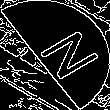N_SW: (18, 24, 92, 86)
